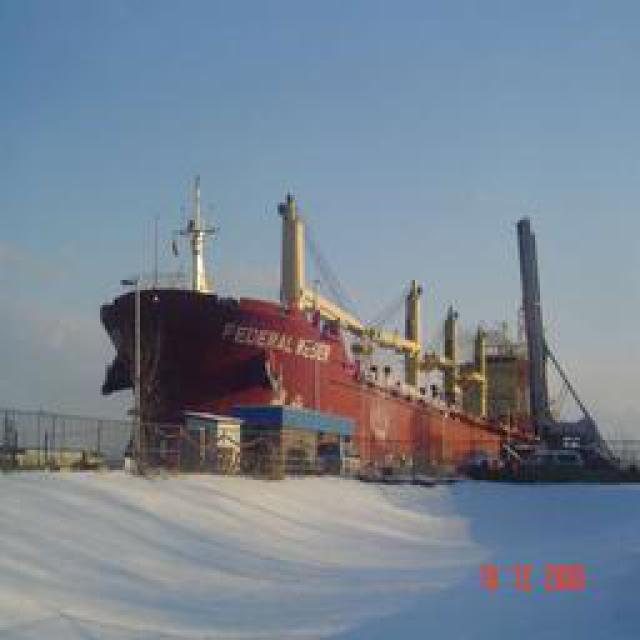Ship: (103, 175, 628, 495)
